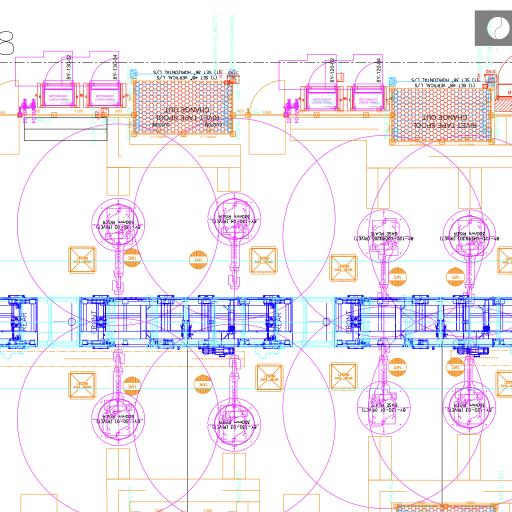robot: (89, 347, 151, 449), (354, 206, 412, 307), (354, 336, 412, 437), (206, 352, 263, 454), (442, 208, 499, 307), (206, 191, 261, 290), (92, 198, 146, 295), (442, 344, 497, 437)
